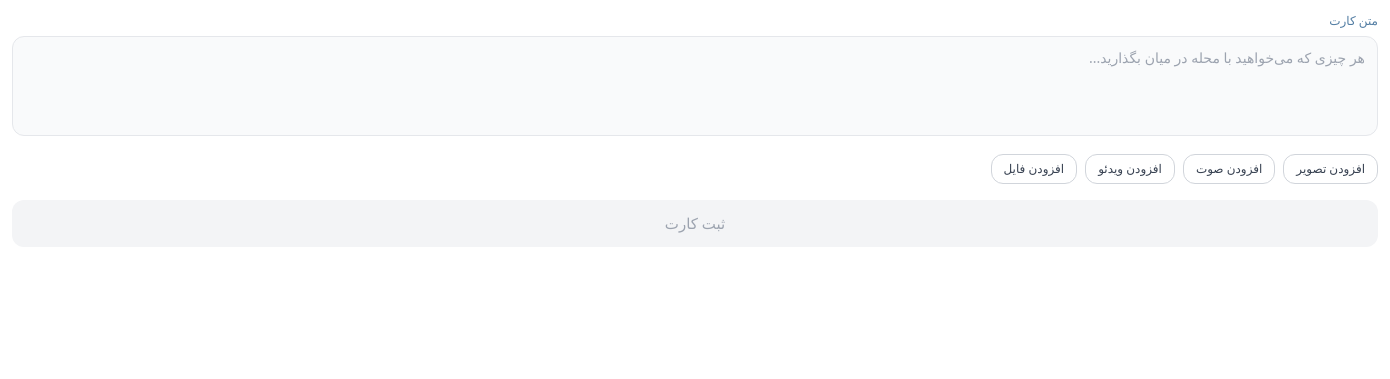
Test: CardComposer ("تک‌ورودی و preview-first"، انتخاب kind اجباری نیست) › shows a live preview as soon as there is body text - plain generic text is always submittable
The width and height of the screenshot is (1390, 379).
Expected: the text "پیش‌نمایش کارت" is not shown
Type "یک متن کاملاً کلی و بدون ساختار خاص" into the text box labelled "متن کارت" at x=695, y=86, box [12,36,1378,136]
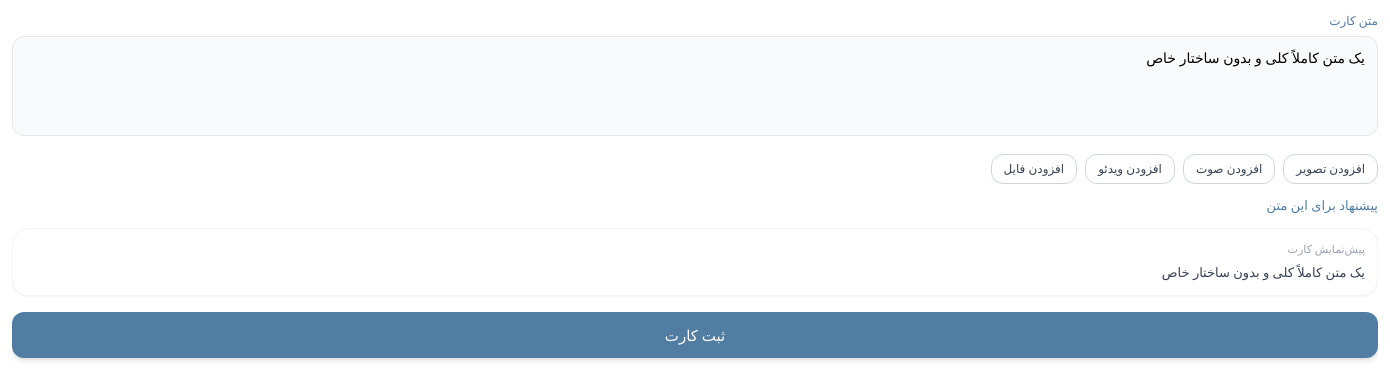
Expected: the text "پیش‌نمایش کارت" is shown, [1288,241,1365,256]
Expected: the button "ثبت کارت" is enabled, [12,312,1378,358]
